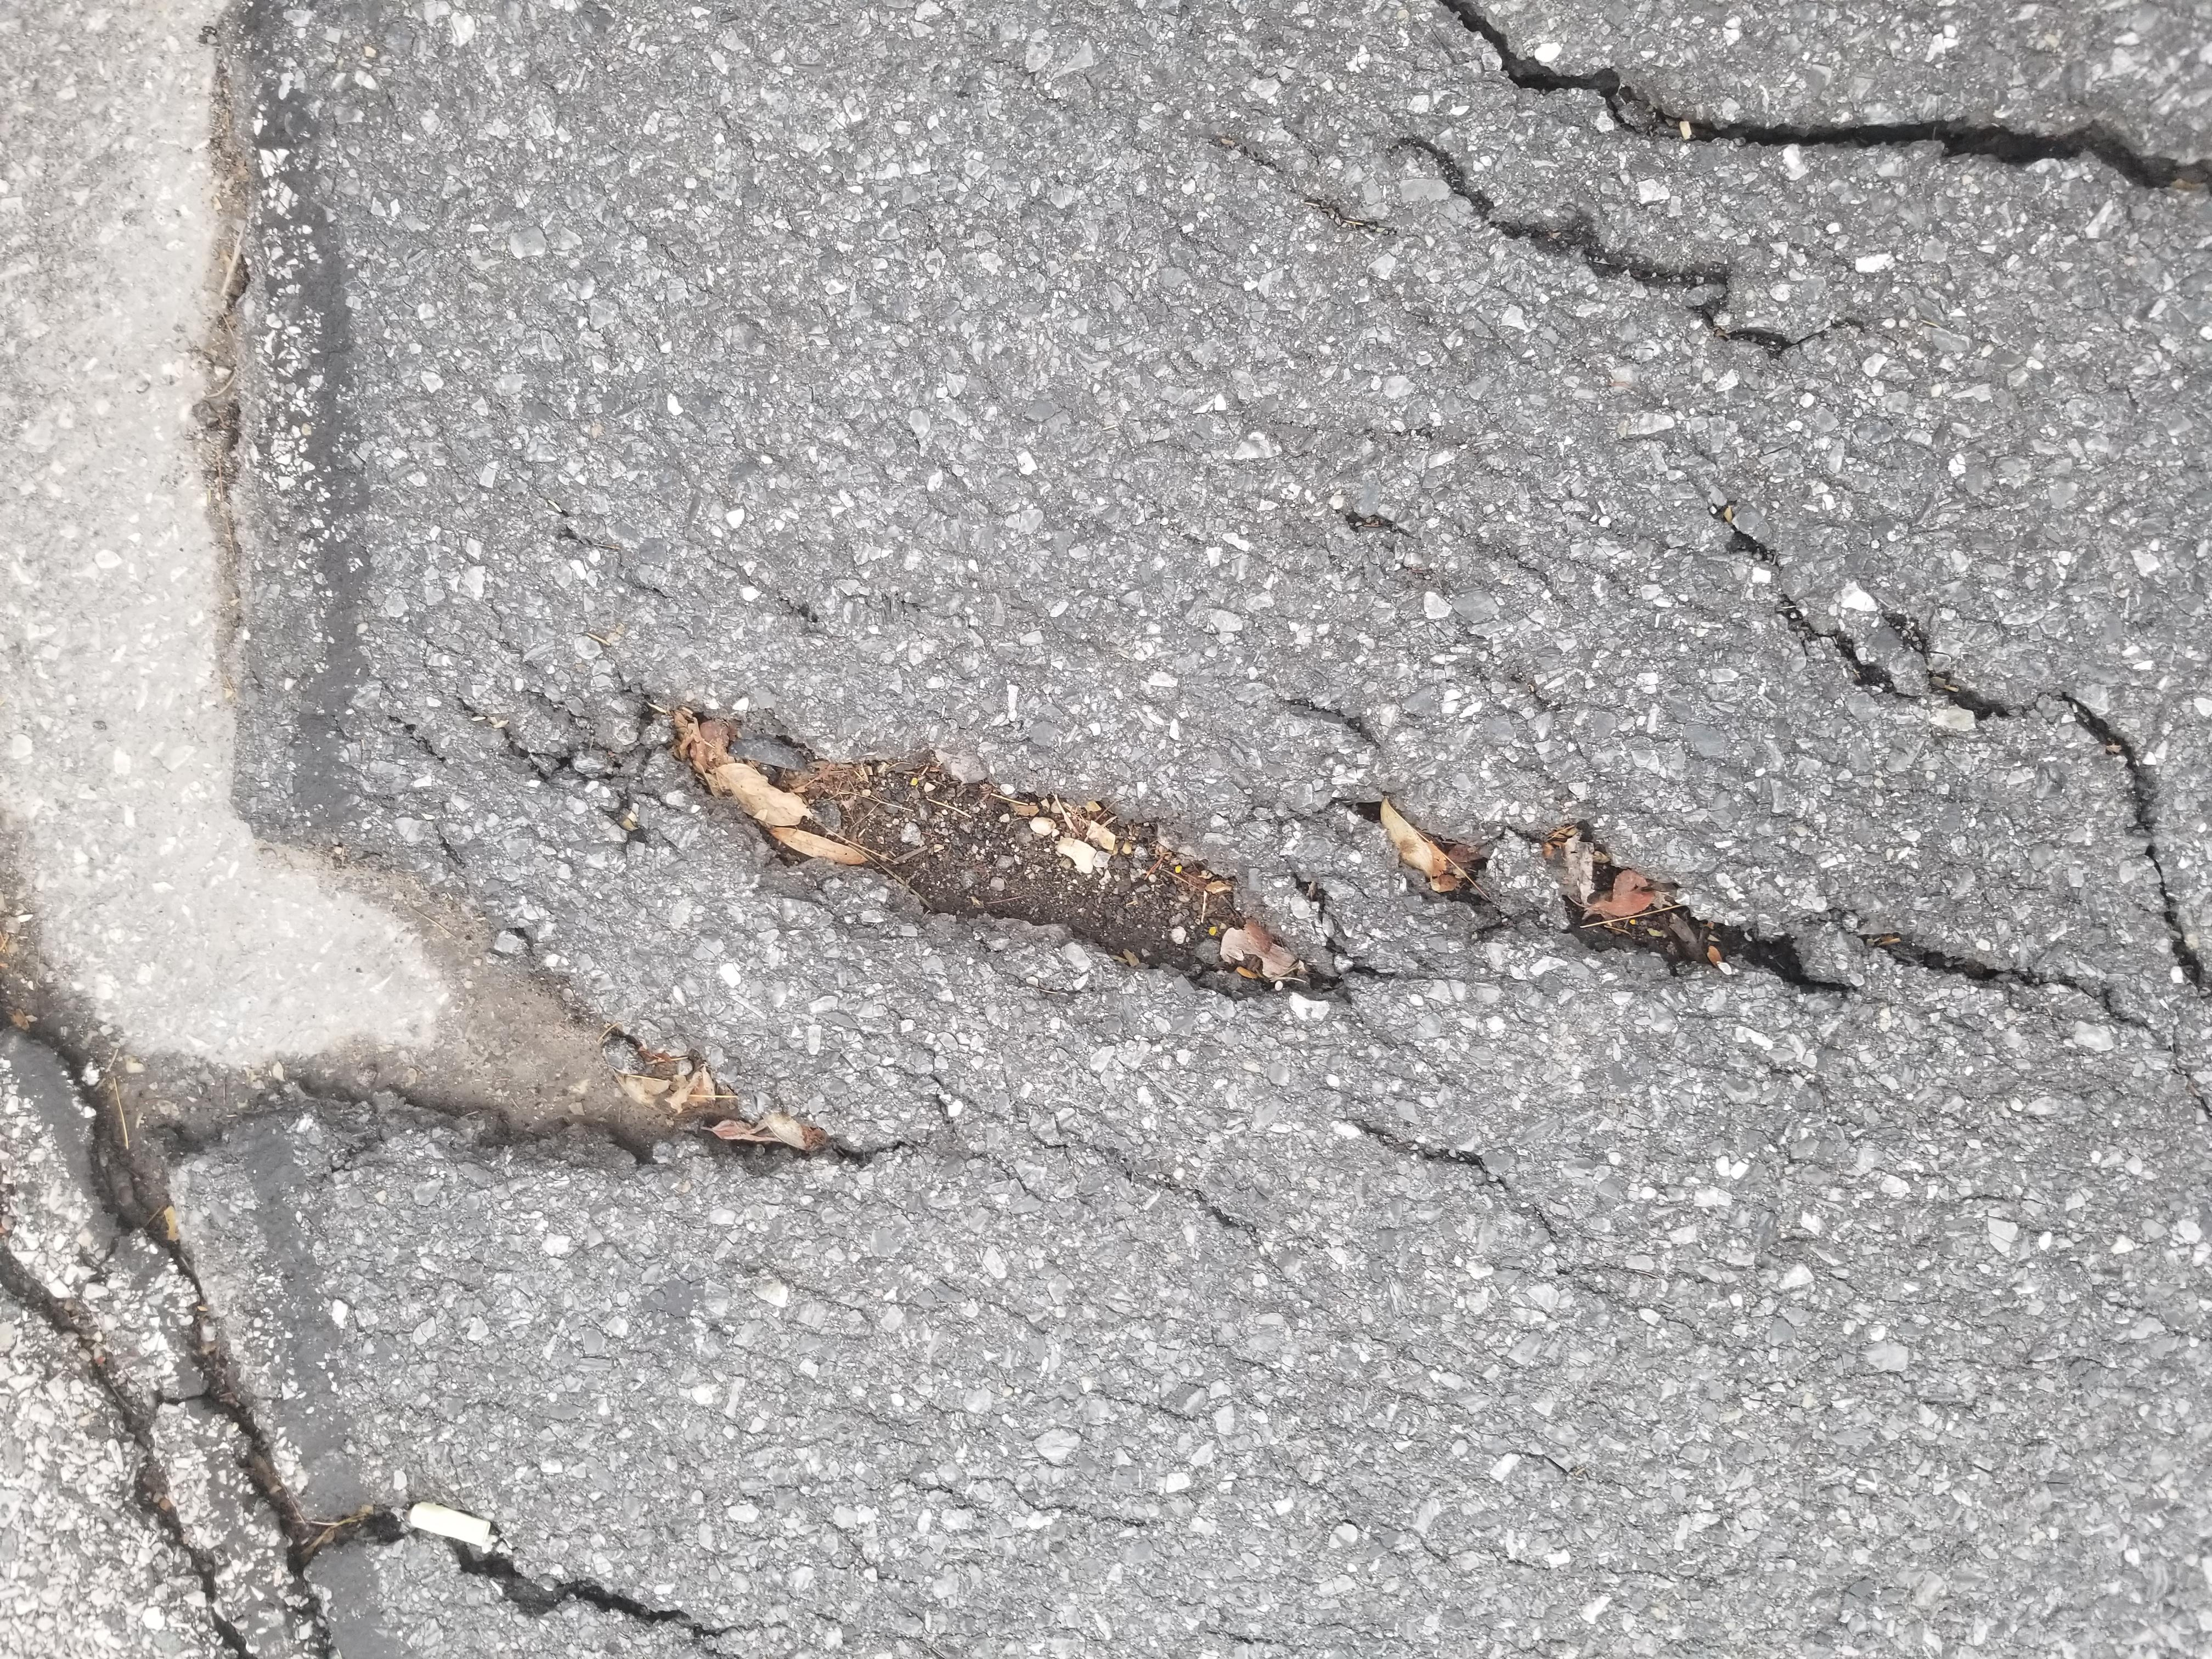crack: (841, 481, 1273, 1622), (1749, 934, 2184, 1659), (23, 16, 449, 584)
pothole: (498, 0, 2193, 416)
